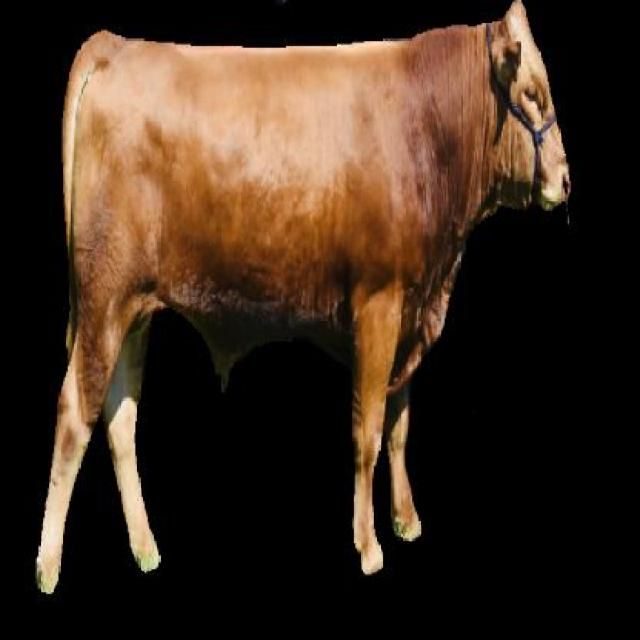Cow: (32, 0, 570, 597)
